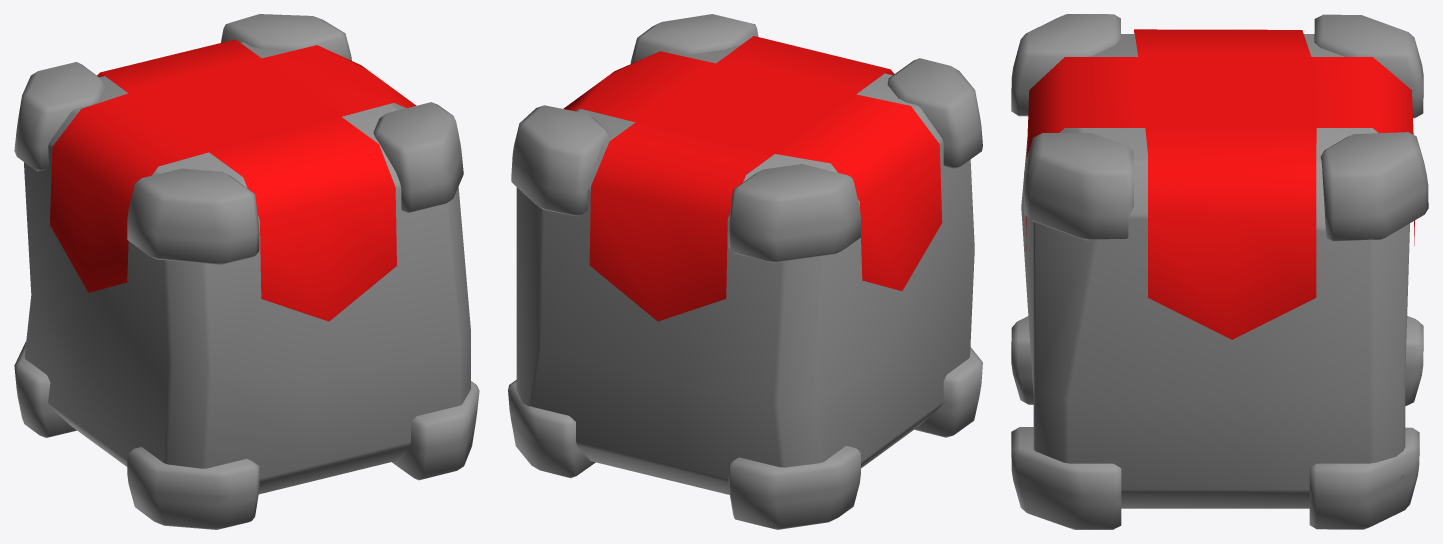
Rendered from PushableObjectLargeMesh.fbx.
The picture shows the model from 3 angles, left to right: view 1: azimuth 30°, elevation 25°; view 2: azimuth 150°, elevation 25°; view 3: azimuth 270°, elevation 25°; orthographic projection. The views are drawn at different scales.
Visible parts, largest first — view 1: PushableObjectLarge, Cloth, CornerPieces; view 2: PushableObjectLarge, Cloth, CornerPieces; view 3: PushableObjectLarge, Cloth, CornerPieces.
Part boxes in pixels (x1,y1,x2,y2): PushableObjectLarge: (24, 42, 470, 494); Cloth: (50, 39, 416, 321); CornerPieces: (14, 14, 479, 529); PushableObjectLarge: (516, 45, 974, 494); Cloth: (563, 36, 942, 321); CornerPieces: (508, 14, 982, 529); PushableObjectLarge: (1021, 34, 1409, 508); Cloth: (1026, 29, 1414, 339); CornerPieces: (1011, 14, 1428, 529).
Bounding box in the file's own units: 27.32 × 25.9 × 27.49.
